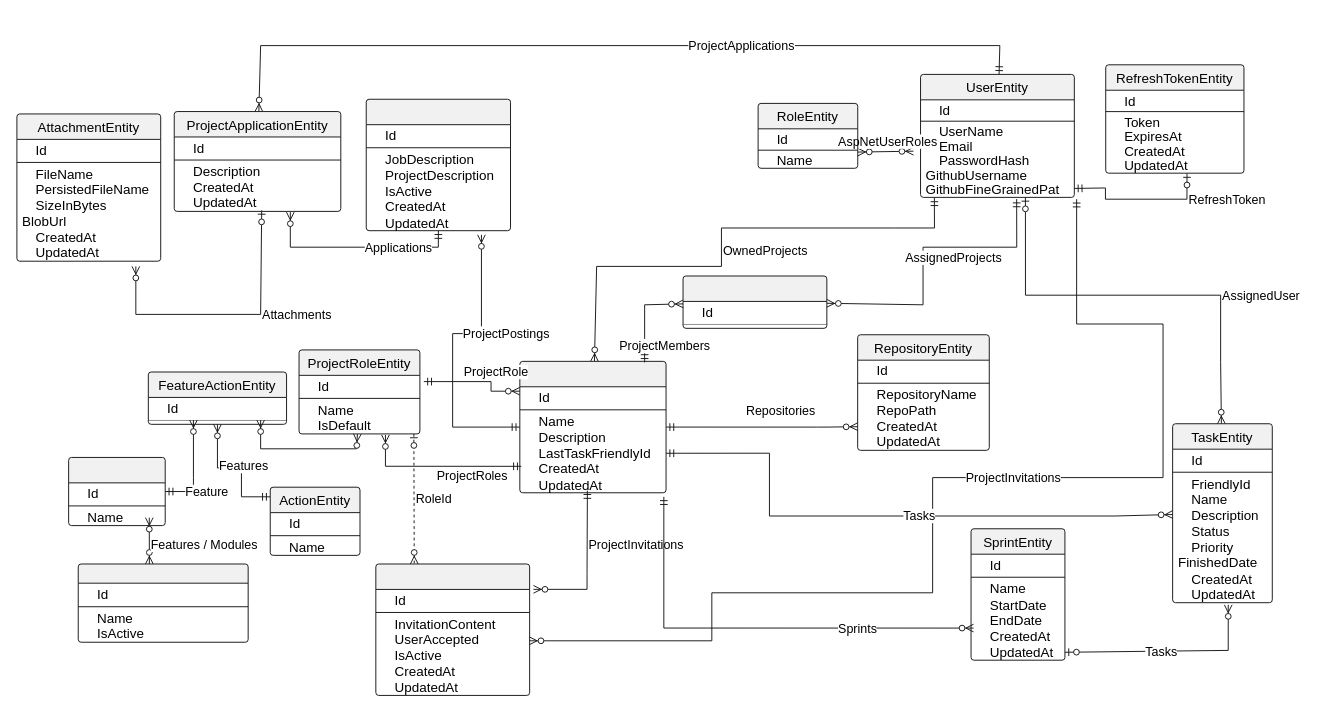
The diagram is 1317 pixels wide and 712 high, and some of its shapes have lost their labels. Each missing label, with the box of its shape:
ApplicationModuleEntity: (77, 563, 248, 642)
FeatureEntity: (68, 456, 165, 526)
ProjectEntity: (519, 360, 666, 493)
ProjectInvitationEntity: (375, 563, 530, 695)
ProjectMemberEntity: (682, 275, 827, 328)
ProjectPostingEntity: (365, 98, 511, 231)
